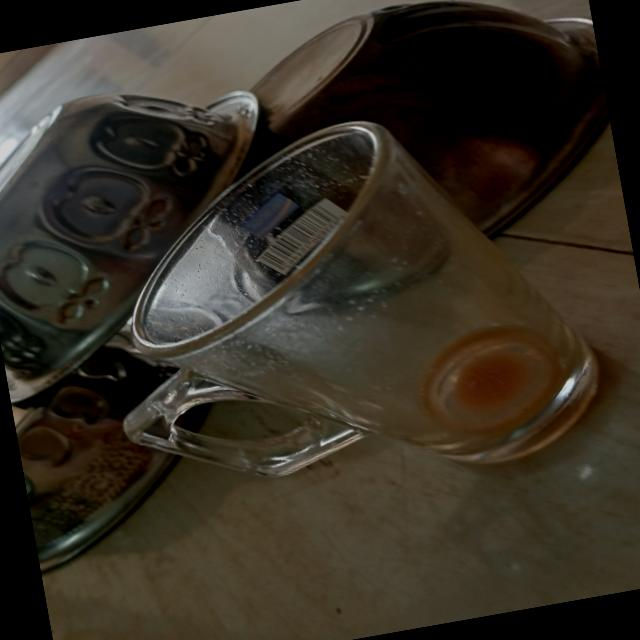glass-VX4N: (70, 80, 631, 558)
